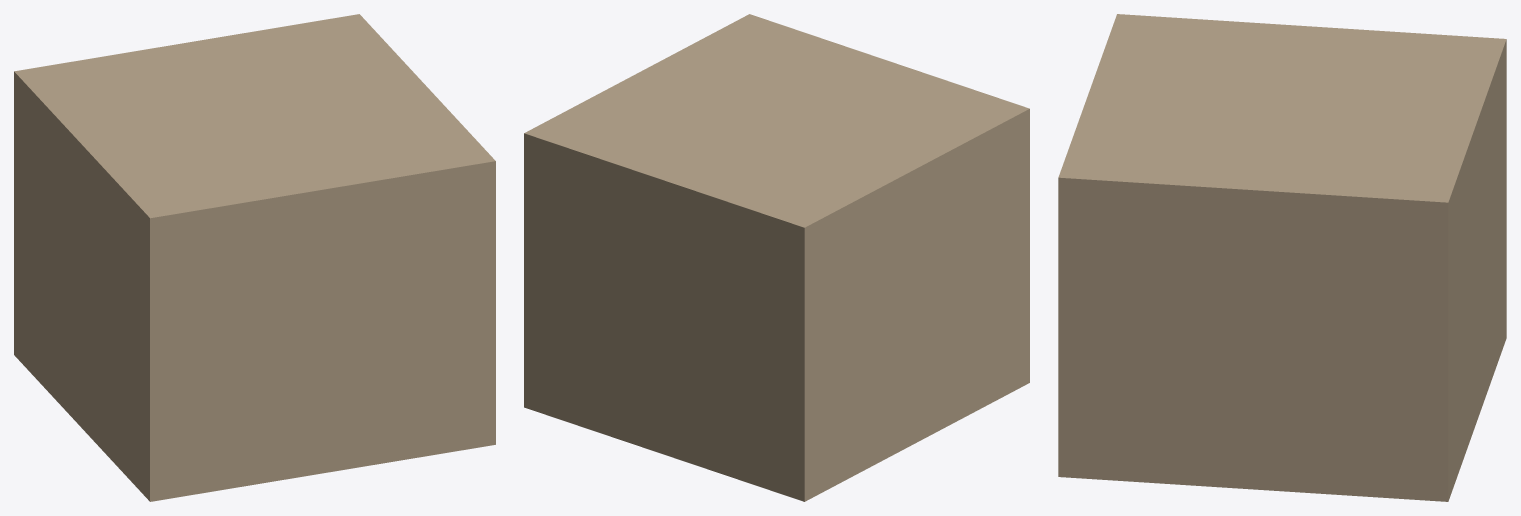
The model's file is bld_99532082.dae.
3 renders of one model, left to right at view 1: azimuth 30°, elevation 25°; view 2: azimuth 150°, elevation 25°; view 3: azimuth 270°, elevation 25°, orthographic. The views are drawn at different scales.
Visible parts, largest first — view 1: bld_99532082; view 2: bld_99532082; view 3: bld_99532082.
Part boxes in pixels (x1,y1,x2,y2): bld_99532082: (14, 14, 495, 501); bld_99532082: (524, 14, 1029, 501); bld_99532082: (1058, 14, 1506, 501).
Size of the model in its own units: 10.81 by 10.86 by 8.
